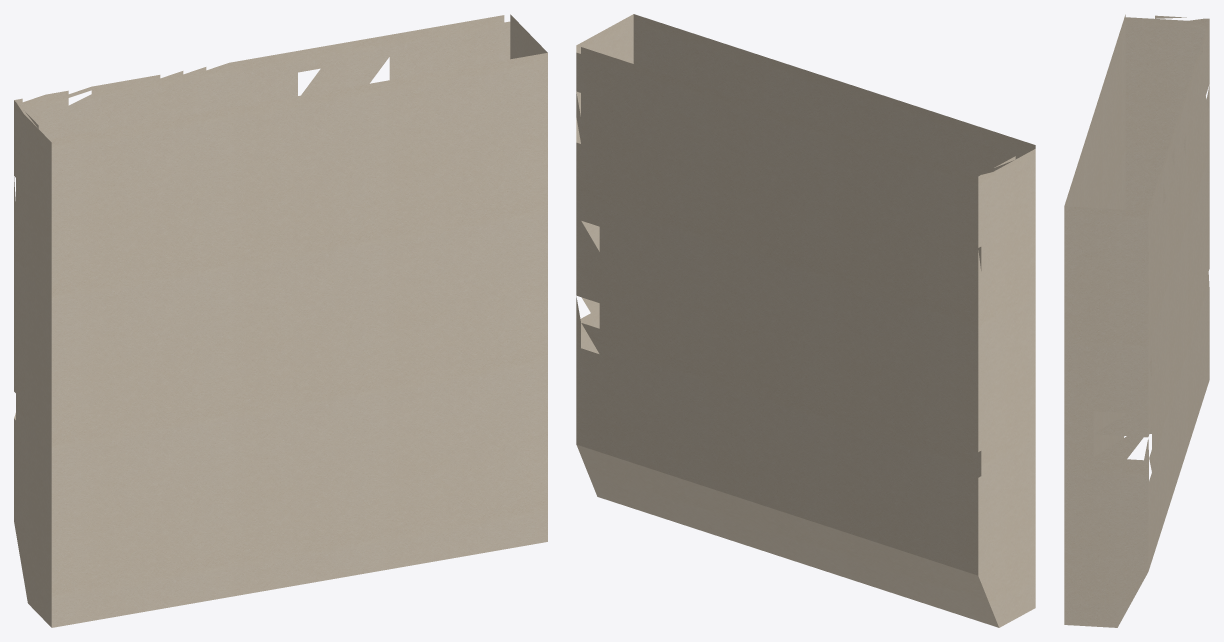
Rendered from coarse.glb.
3 renders of one model, left to right at view 1: azimuth 30°, elevation 25°; view 2: azimuth 150°, elevation 25°; view 3: azimuth 270°, elevation 25°, orthographic. The views are drawn at different scales.
Size of the model in its own units: 3.3 by 3.26 by 1.03.
Materials: 1 (1 with a texture image).
